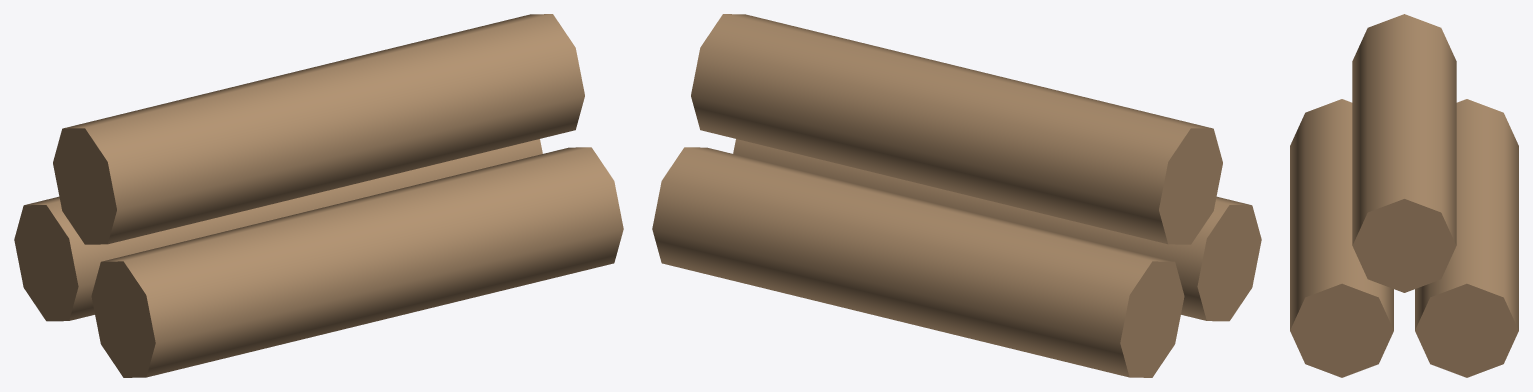
File: logs.glb
3 views of the same model, side by side, from view 1: azimuth 30°, elevation 25°; view 2: azimuth 150°, elevation 25°; view 3: azimuth 270°, elevation 25° (orthographic). The views are drawn at different scales.
Visible parts, largest first — view 1: Logs; view 2: Logs; view 3: Logs.
Boxes of the visible parts, x1,y1,x2,y2 form: Logs: (14,14,623,377); Logs: (652,14,1261,377); Logs: (1290,14,1518,377).
Bounding box in the file's own units: 0.42 × 0.19 × 0.22.
